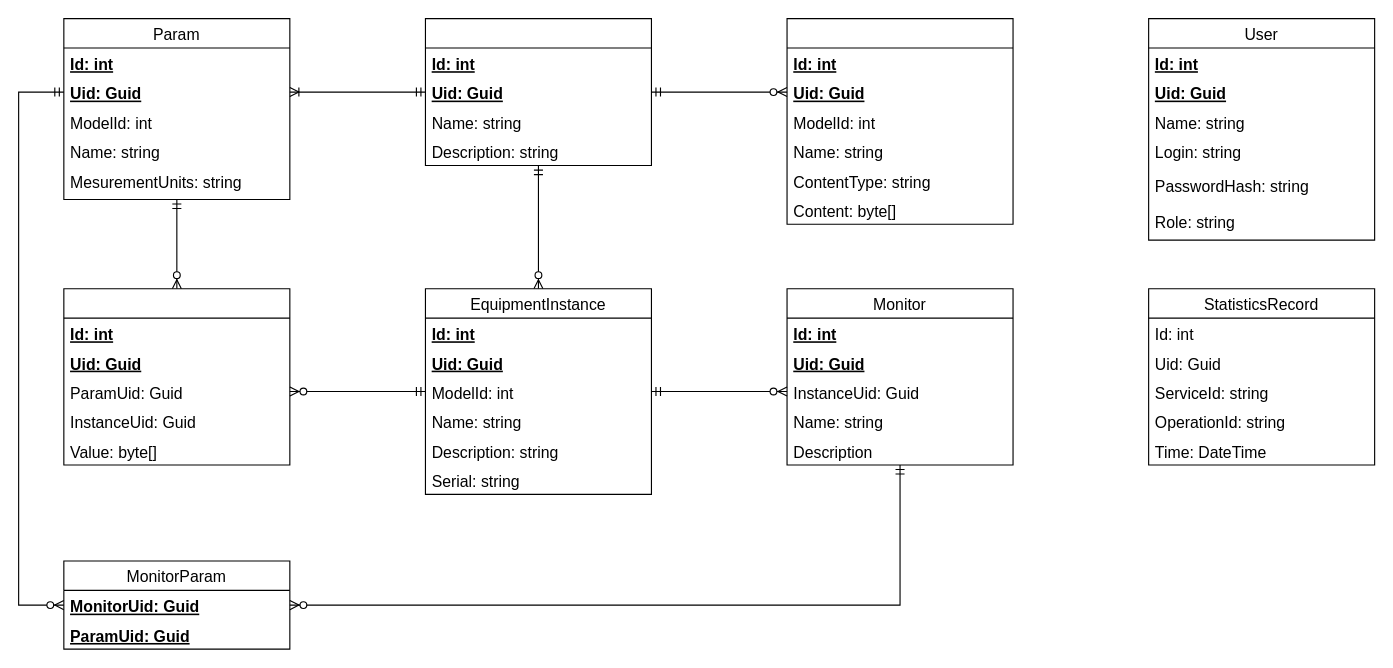
Some shapes in this 1393 by 668 pixel diagram are drawn without their labels. The shapes that lost their labels are listed below. From the top down, each one's box as (x1, y1, x2, y2) in pixels, then its label:
(424, 18, 651, 166): EquipmentModel
(786, 18, 1013, 224): Documentation
(63, 288, 290, 465): ParamValue
